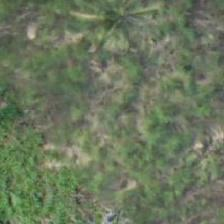Kelapa_Sawit: (66, 0, 156, 60)
